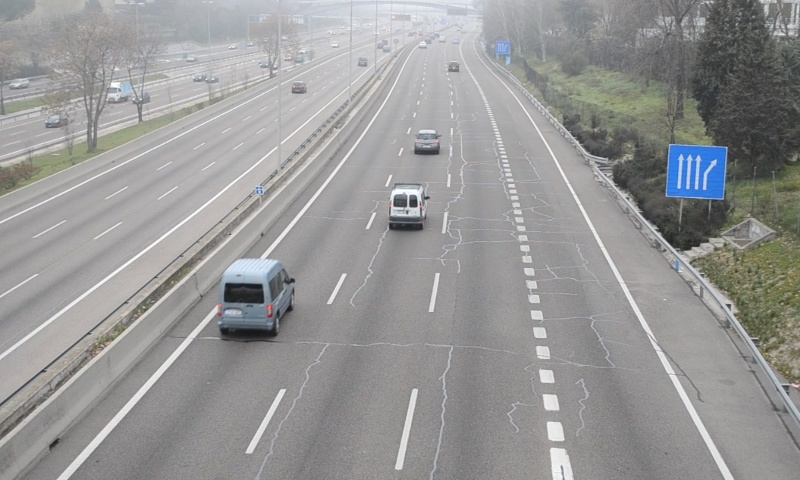car: (414, 128, 441, 154)
van: (219, 259, 295, 332), (388, 185, 427, 226)
